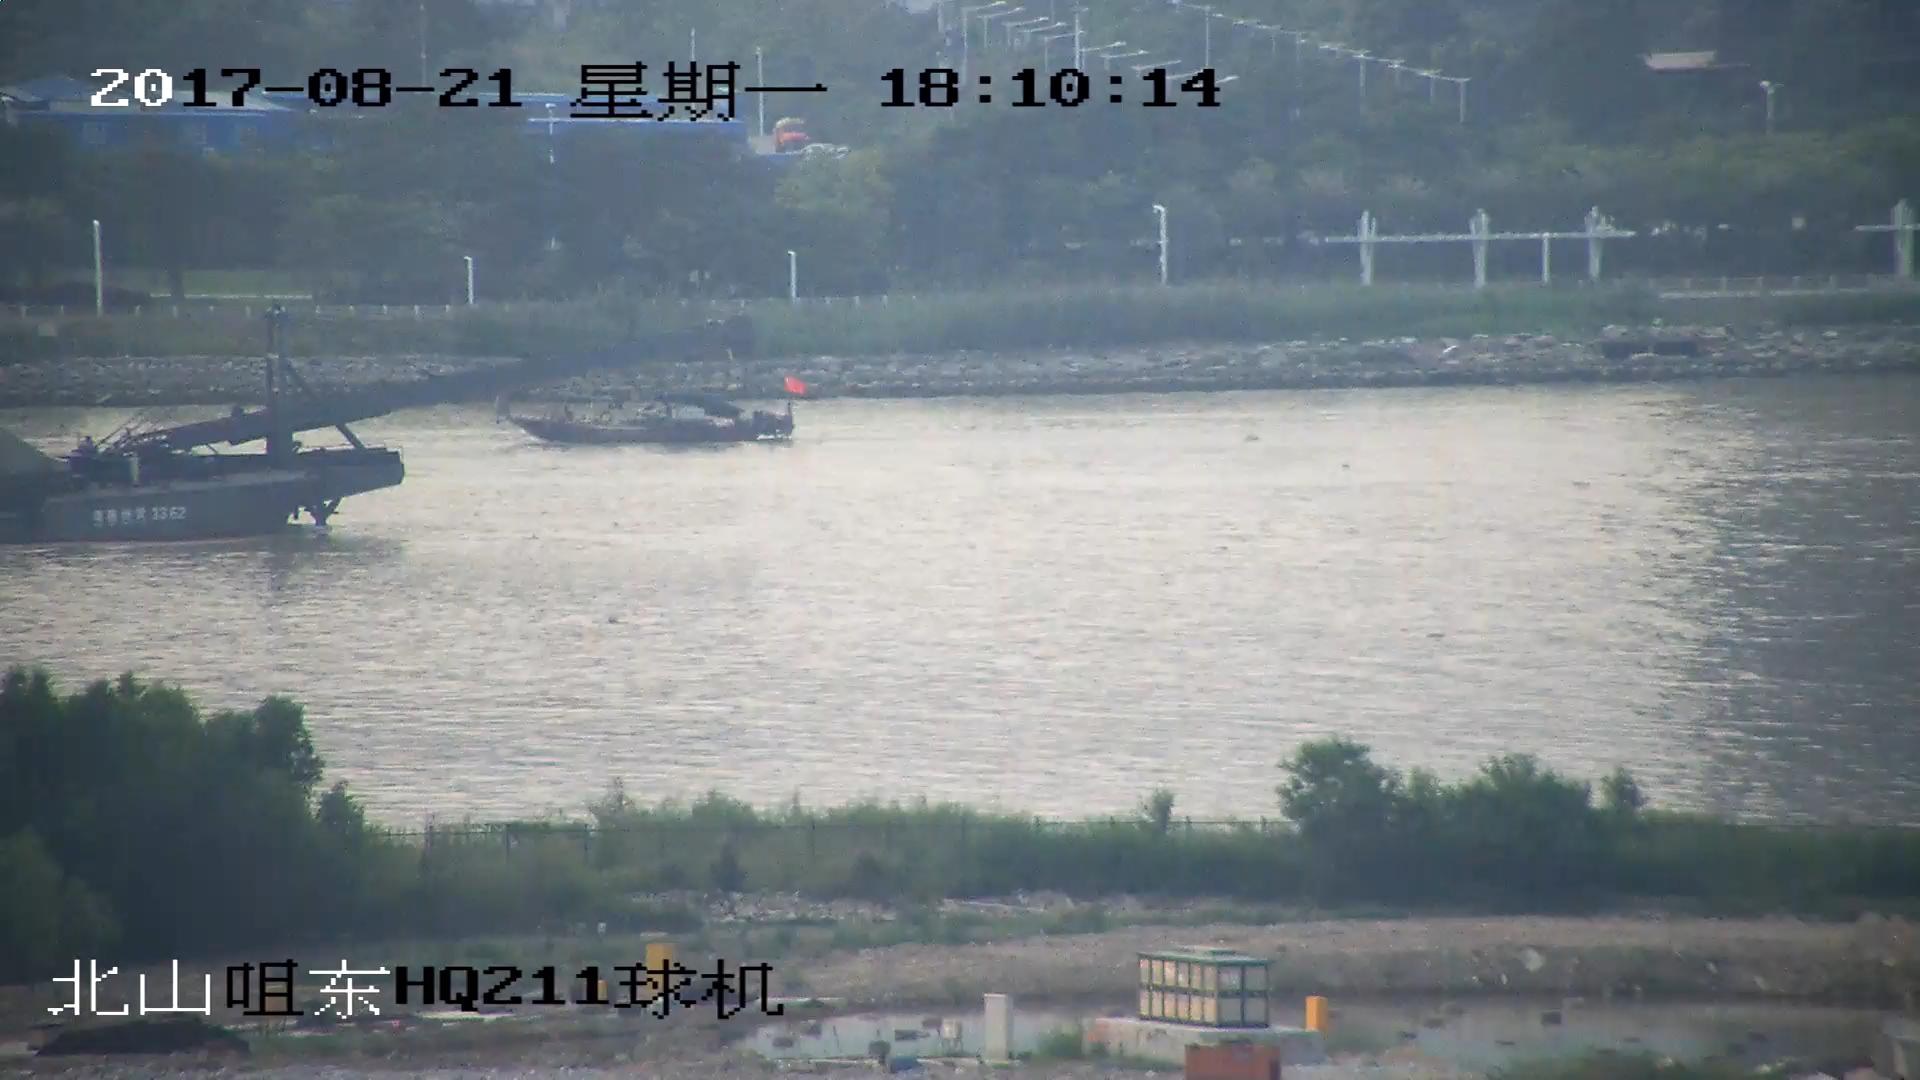fishing boat: (504, 380, 812, 442)
ore carrier: (1, 310, 748, 545)
